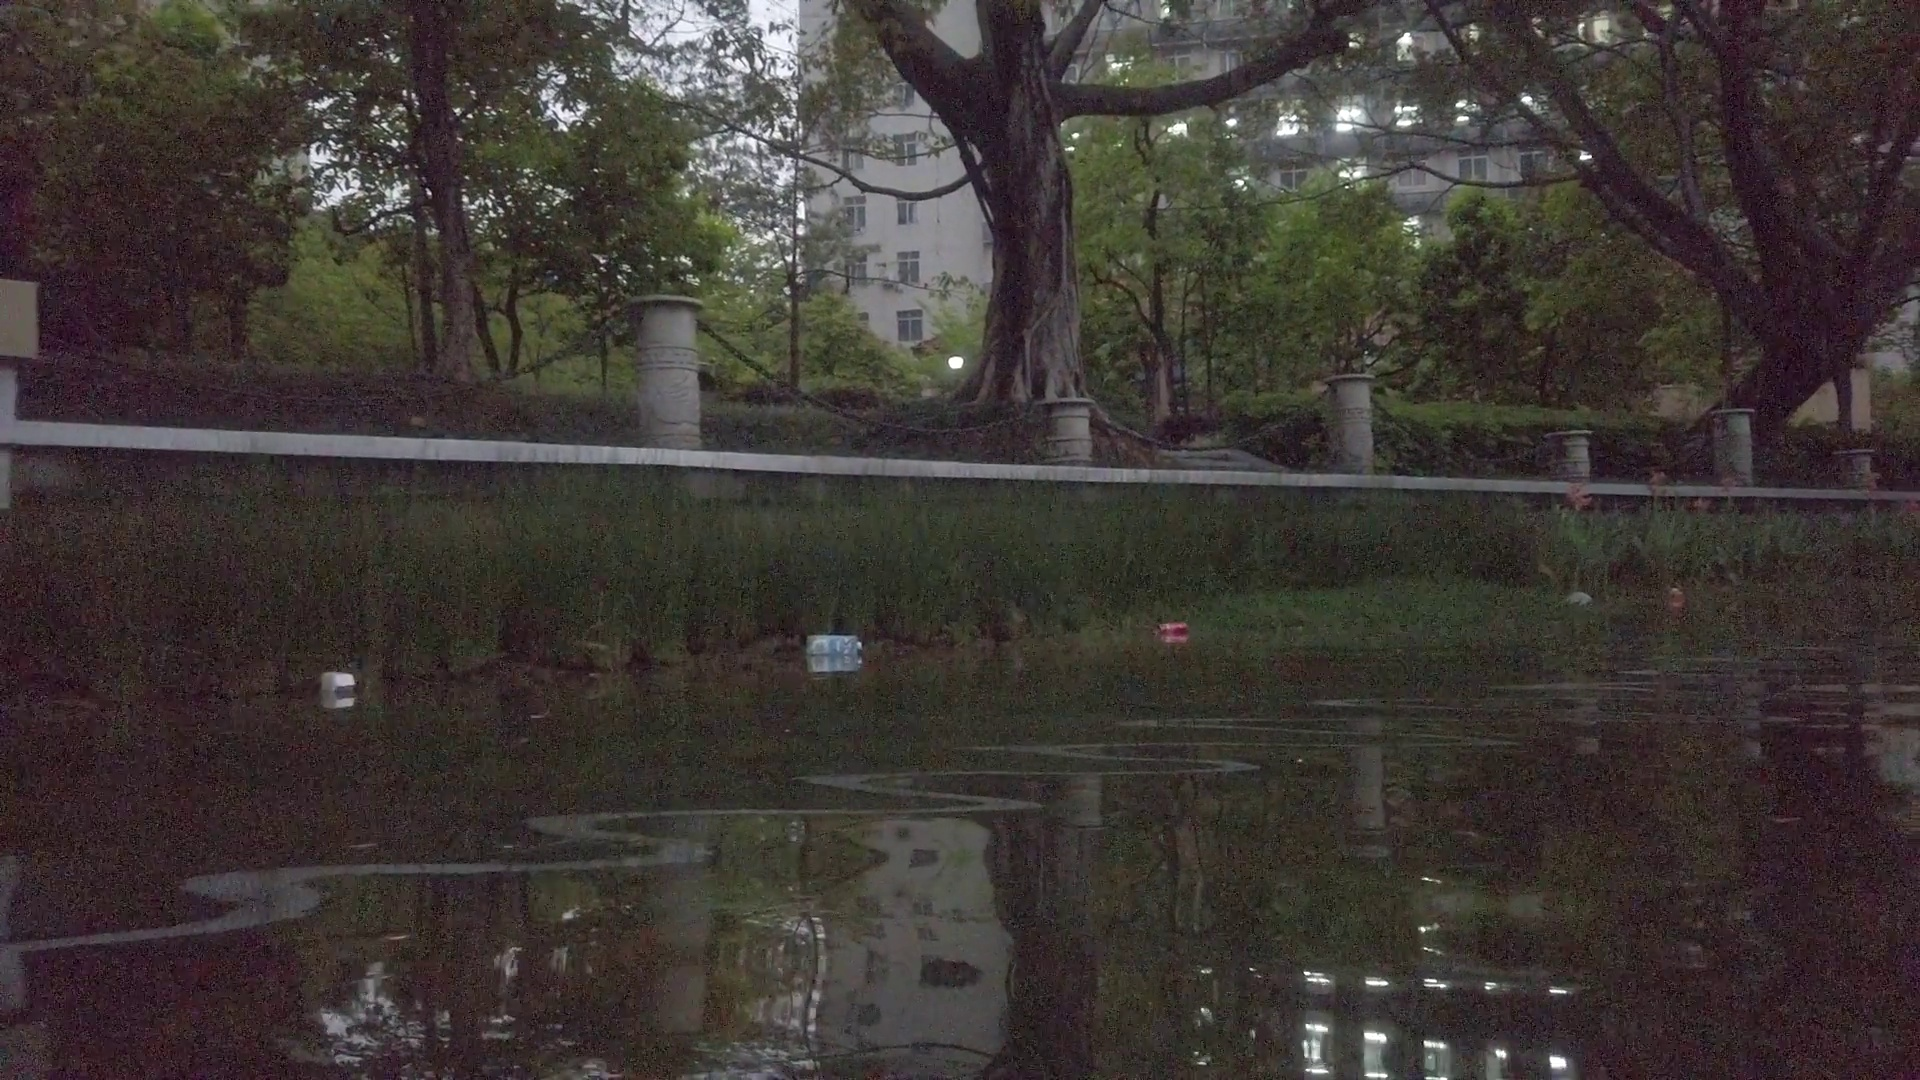bottle: (1563, 583, 1597, 616), (1158, 620, 1189, 640), (1664, 587, 1688, 607)
carton: (804, 632, 862, 658), (320, 669, 356, 699)
